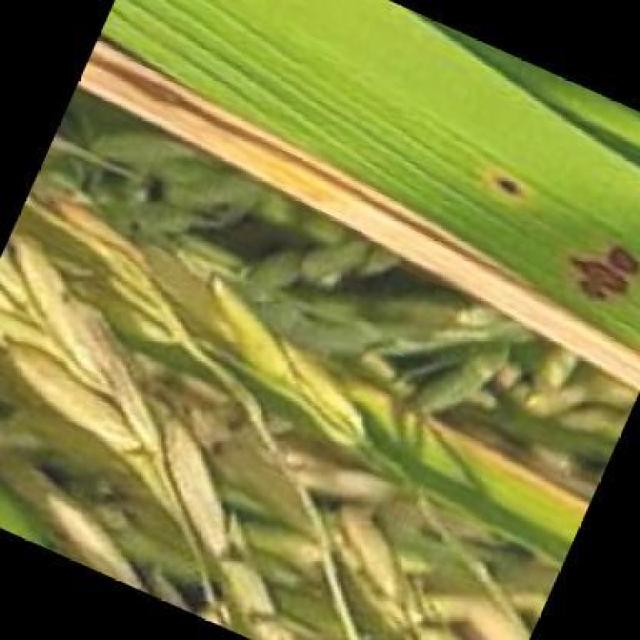Leaf_Blast: (549, 219, 640, 319), (473, 153, 545, 221)
